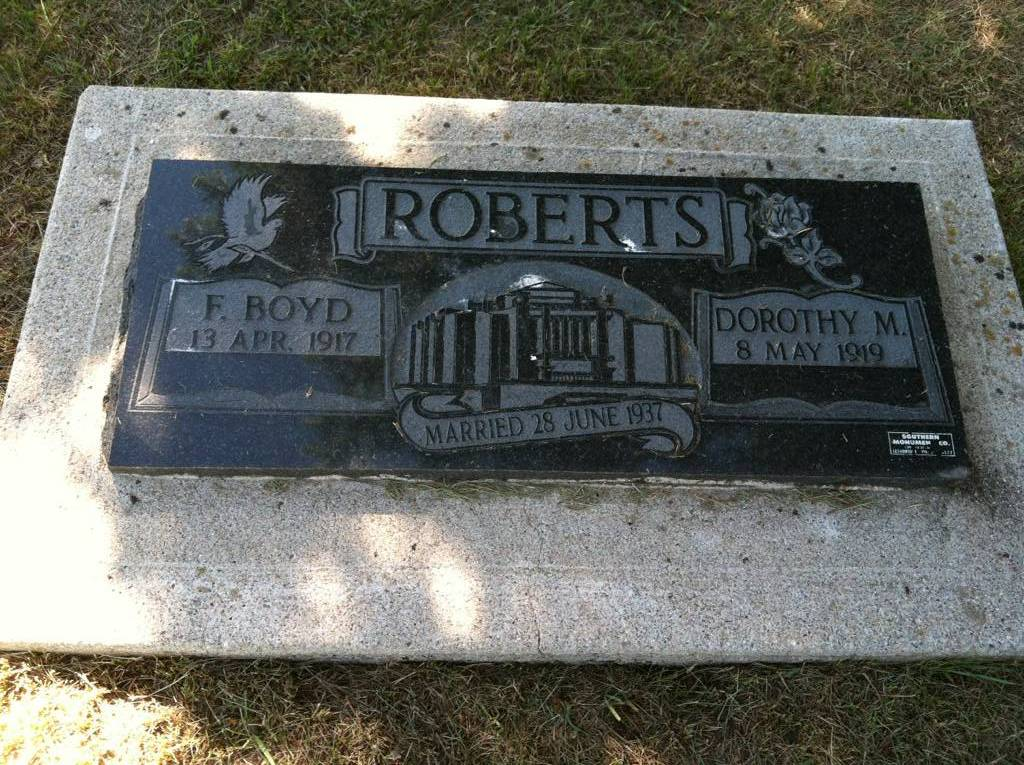flat: (16, 85, 1015, 685)
